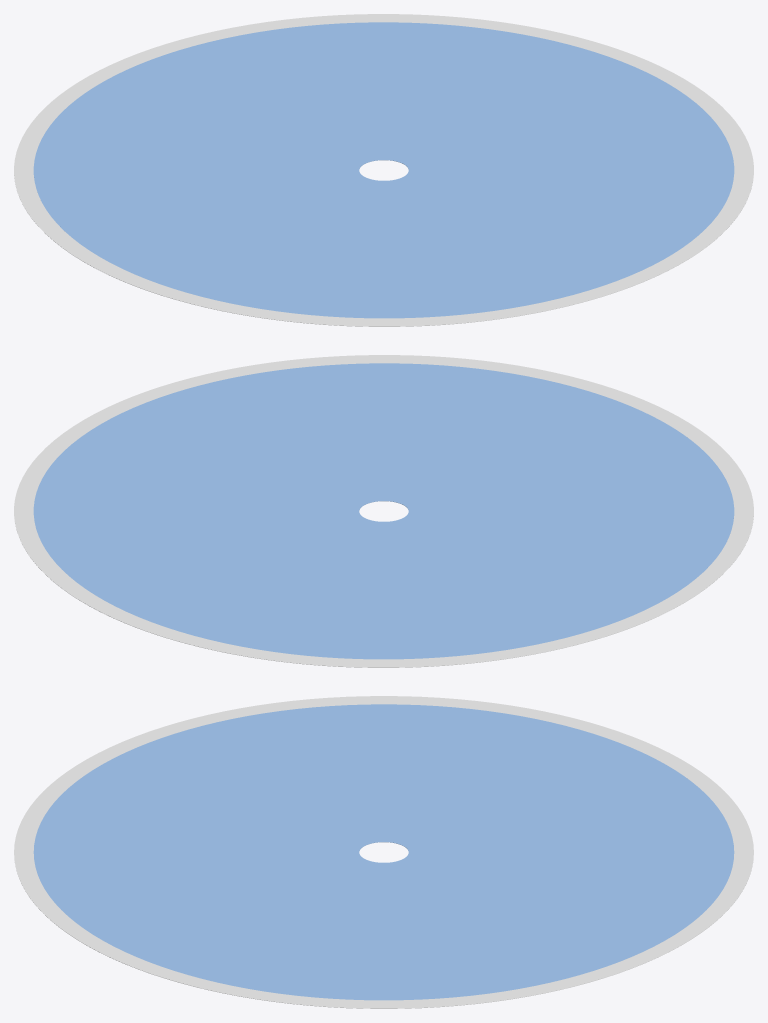
The model's file is pisoDetalle2.fbx.
3 renders of one model, top to bottom at view 1: azimuth 30°, elevation 25°; view 2: azimuth 150°, elevation 25°; view 3: azimuth 270°, elevation 25°, orthographic.
Visible parts, largest first — view 1: gymnasium.037, gymnasium.033; view 2: gymnasium.037, gymnasium.033; view 3: gymnasium.037, gymnasium.033.
Boxes of the visible parts, x1,y1,x2,y2 form: gymnasium.037: (33, 22, 734, 318); gymnasium.033: (14, 14, 753, 326); gymnasium.037: (33, 363, 734, 659); gymnasium.033: (14, 355, 753, 667); gymnasium.037: (33, 704, 734, 1000); gymnasium.033: (14, 696, 753, 1008).
Bounding box in the file's own units: 300 × 0.1 × 300.
